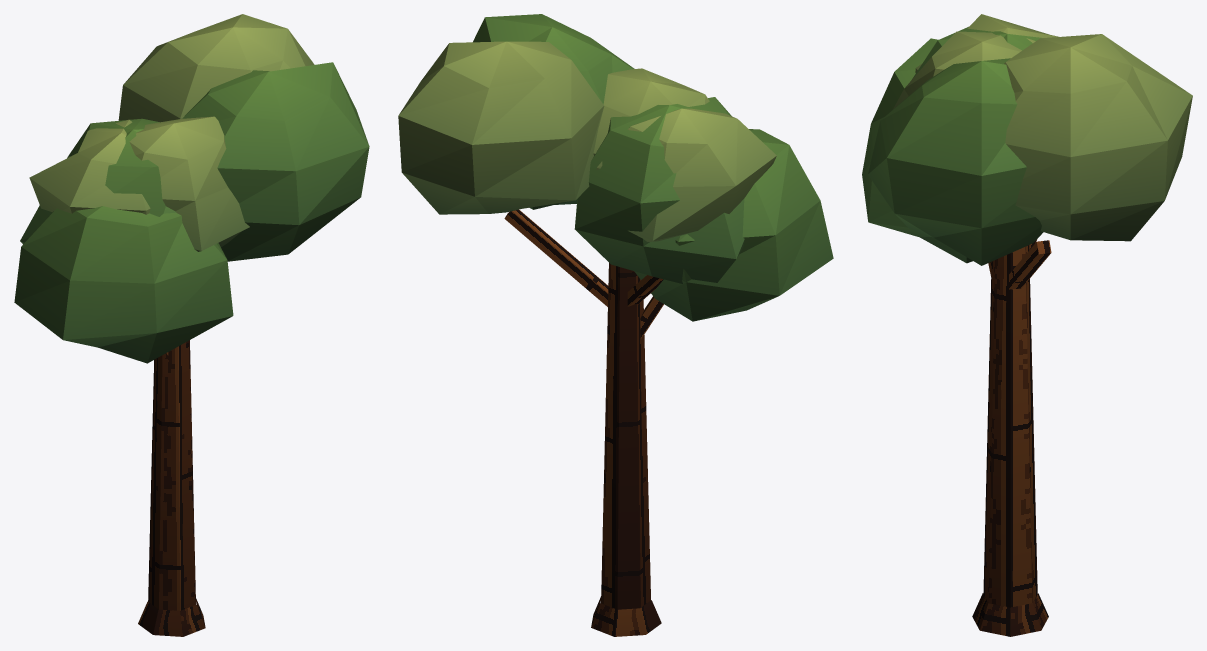
Rendered from birch_3_lowpoly.glb.
3 views of the same model, side by side, from view 1: azimuth 30°, elevation 25°; view 2: azimuth 150°, elevation 25°; view 3: azimuth 270°, elevation 25° (orthographic). The views are drawn at different scales.
Parts seen in each view (by area): view 1: birch_3_lowpoly; view 2: birch_3_lowpoly; view 3: birch_3_lowpoly.
Part boxes in pixels (box(x1,y1,x2,y2)): birch_3_lowpoly: box(14, 14, 369, 636); birch_3_lowpoly: box(398, 14, 833, 636); birch_3_lowpoly: box(862, 14, 1192, 636).
Size of the model in its own units: 3.88 by 6.26 by 3.03.
2 materials, 1 textured.
